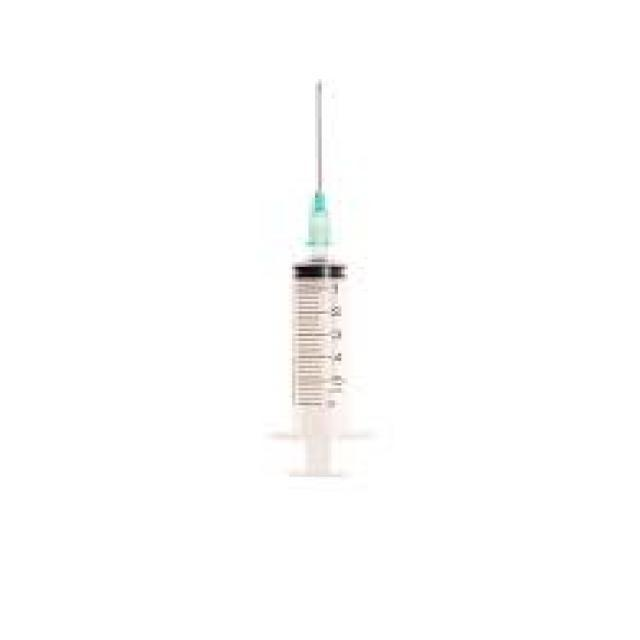syringe: (256, 66, 390, 542)
